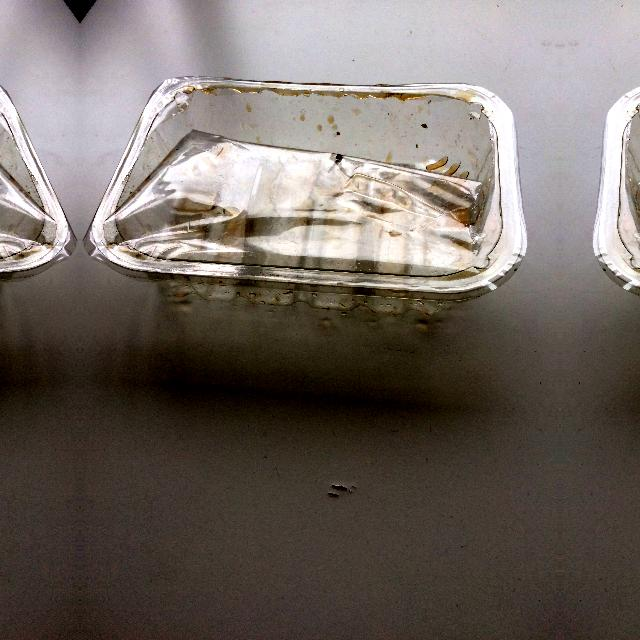Plastic: (80, 66, 536, 354)
